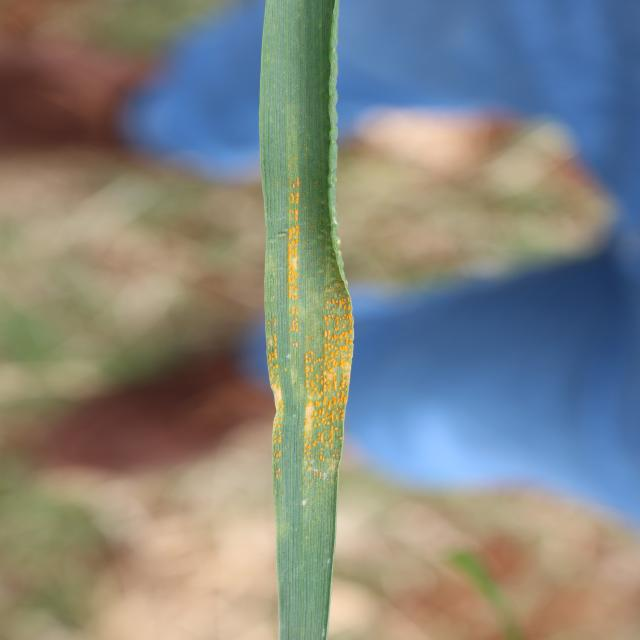Stripe Rust: (314, 288, 348, 467), (267, 321, 301, 457), (285, 179, 301, 312)
